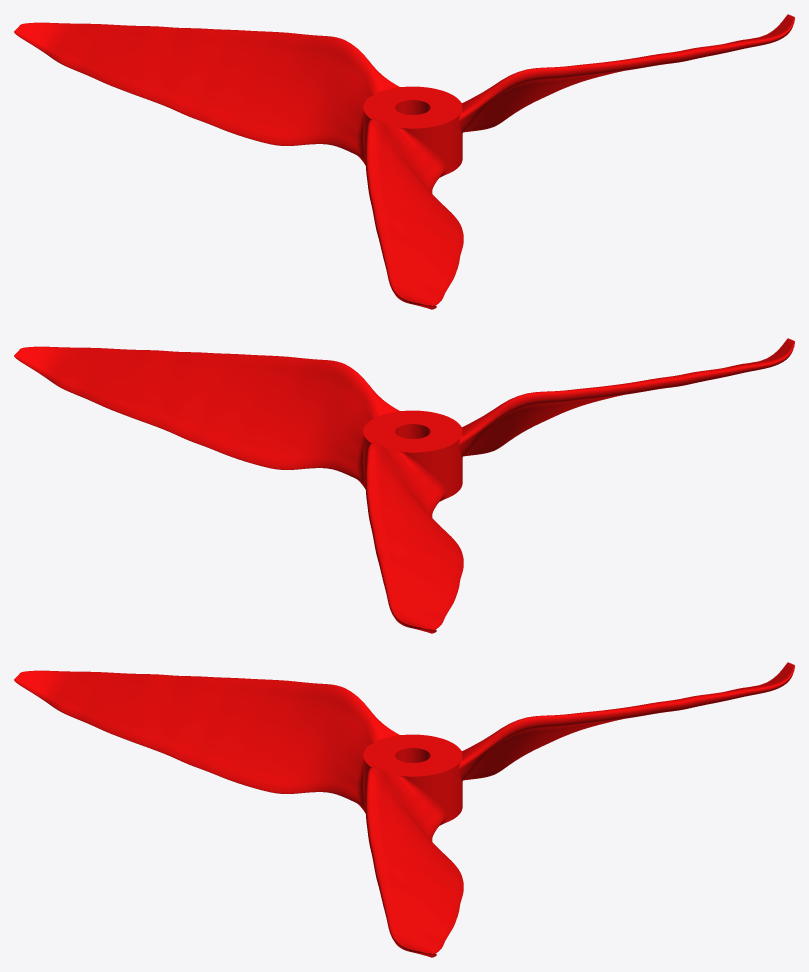
Rendered from Falcon_PropellerCW.dae.
The picture shows the model from 3 angles, top to bottom: view 1: azimuth 30°, elevation 25°; view 2: azimuth 150°, elevation 25°; view 3: azimuth 270°, elevation 25°; orthographic projection.
Visible parts, largest first — view 1: ID2; view 2: ID2; view 3: ID2.
Boxes of the visible parts, x1,y1,x2,y2 form: ID2: [14, 14, 794, 309]; ID2: [14, 338, 794, 633]; ID2: [14, 662, 794, 957].
Bounding box in the file's own units: 0.0973 × 0.1099 × 0.0129.
